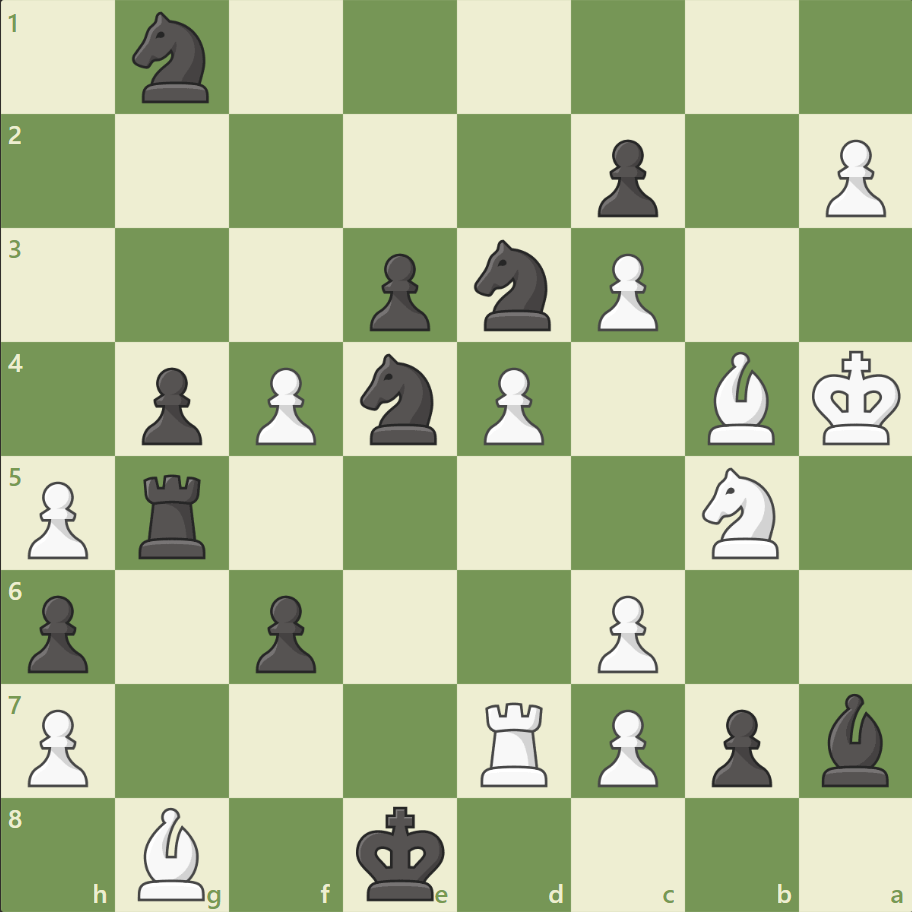B: (131, 801, 215, 904), (698, 347, 782, 449)
K: (806, 344, 906, 452)
N: (692, 461, 789, 564)
P: (20, 700, 95, 791), (20, 473, 95, 564), (474, 359, 549, 450), (247, 359, 322, 450), (588, 700, 662, 791), (588, 586, 662, 677), (588, 246, 662, 337), (815, 132, 889, 223)
R: (473, 693, 556, 790)
b: (812, 687, 896, 790)
k: (351, 798, 451, 906)
n: (124, 7, 222, 110), (351, 348, 449, 450), (465, 234, 562, 337)
p: (701, 700, 776, 791), (247, 586, 322, 677), (20, 586, 95, 677), (133, 359, 208, 450), (361, 246, 435, 337), (588, 132, 662, 223)
r: (133, 466, 215, 563)
